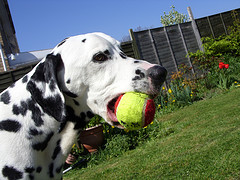tennis ball: (113, 90, 158, 131)
